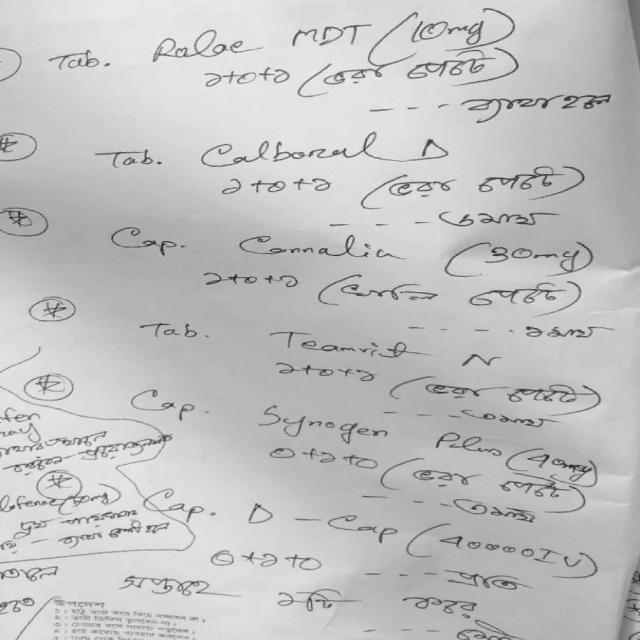medicine: (163, 110, 470, 173), (254, 394, 508, 467), (242, 324, 508, 366), (226, 494, 400, 550), (229, 219, 428, 267), (127, 19, 264, 66)
